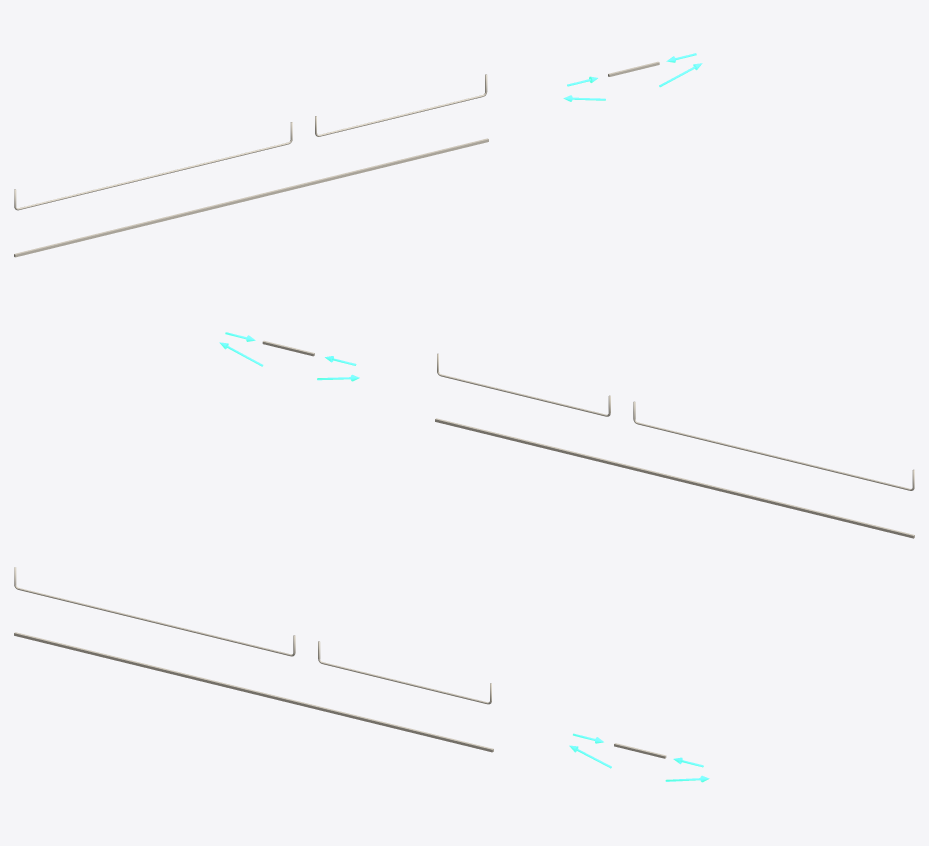
Rendered from condensacion.glb.
3 views of the same model, one above another, from view 1: azimuth 30°, elevation 25°; view 2: azimuth 150°, elevation 25°; view 3: azimuth 330°, elevation 25° (orthographic).
Parts seen in each view (by area): view 1: barra_plana, corchete1_plano, corchete2_plano; view 2: barra_plana, corchete1_plano, corchete2_plano; view 3: barra_plana, corchete1_plano, corchete2_plano.
Boxes of the visible parts, x1,y1,x2,y2 form: barra_plana: (14,138,488,257); corchete1_plano: (14,122,292,210); corchete2_plano: (315,74,487,136); barra_plana: (435,418,914,538); corchete1_plano: (633,401,914,490); corchete2_plano: (437,353,610,416); barra_plana: (14,632,493,752); corchete1_plano: (14,567,295,656); corchete2_plano: (318,641,491,704).
Bounding box in the file's own units: 7.92 × 0.6861 × 0.216.
